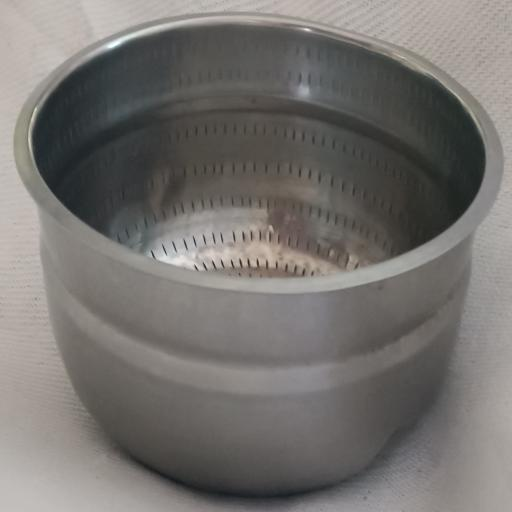vessel: (15, 14, 502, 494)
